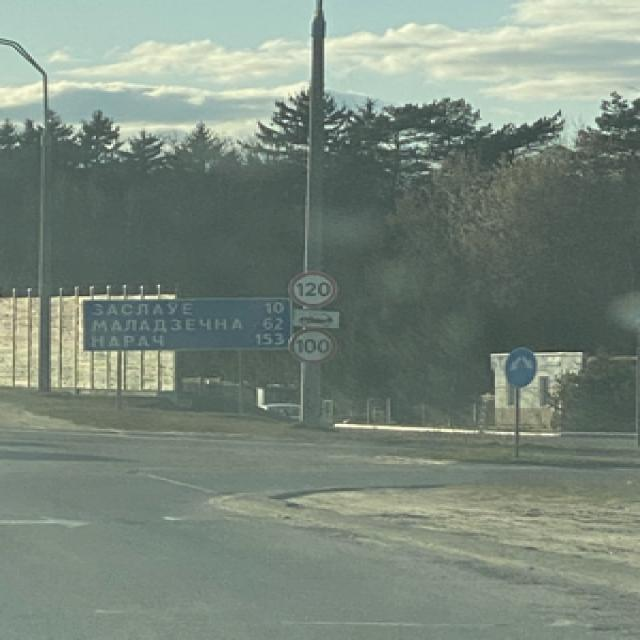speedlimit: (284, 270, 330, 306), (286, 326, 331, 358)
